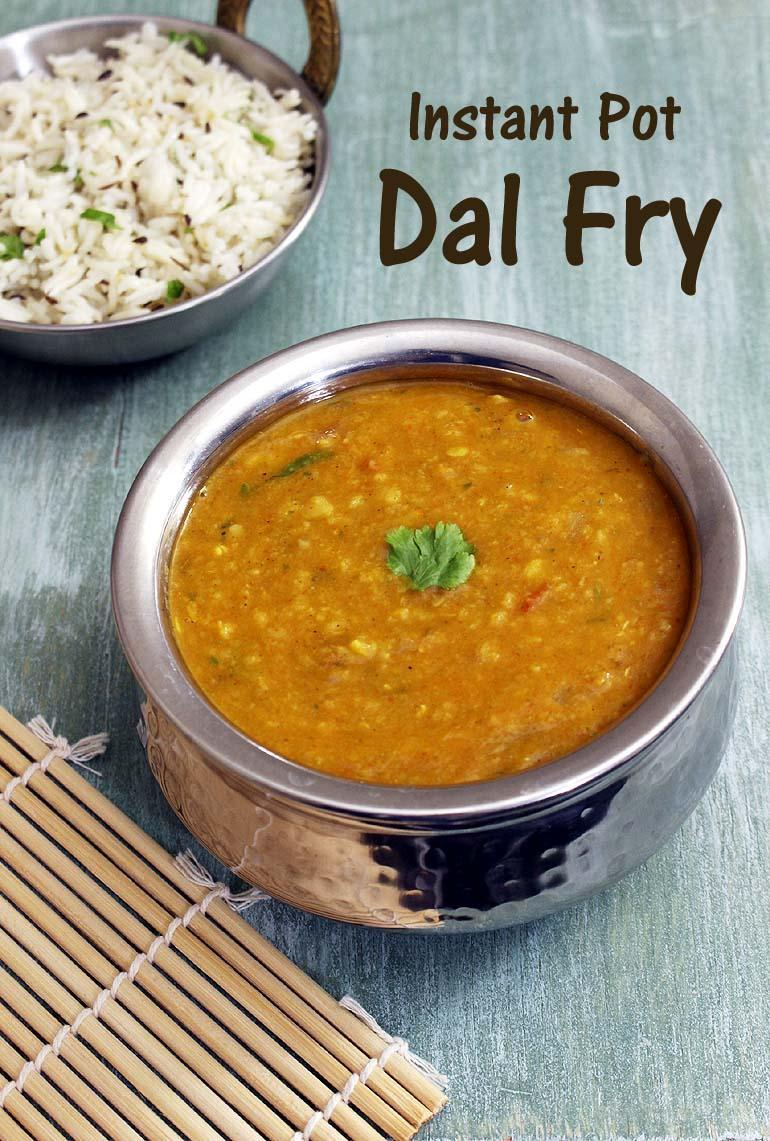dal: (158, 340, 697, 795)
rice: (5, 10, 320, 328)
